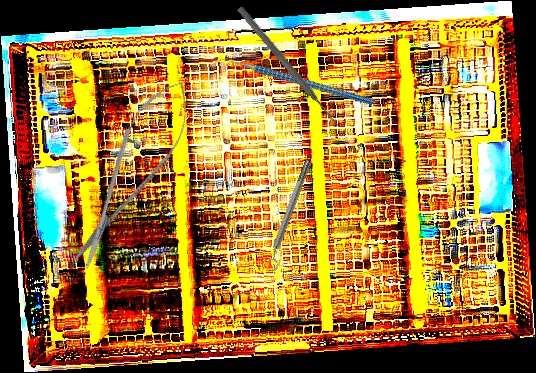Chopper: (210, 11, 376, 155)
Fixation Ring: (259, 157, 318, 273)
Micro Scissor: (56, 69, 206, 279)
Pusher: (235, 5, 342, 129)
